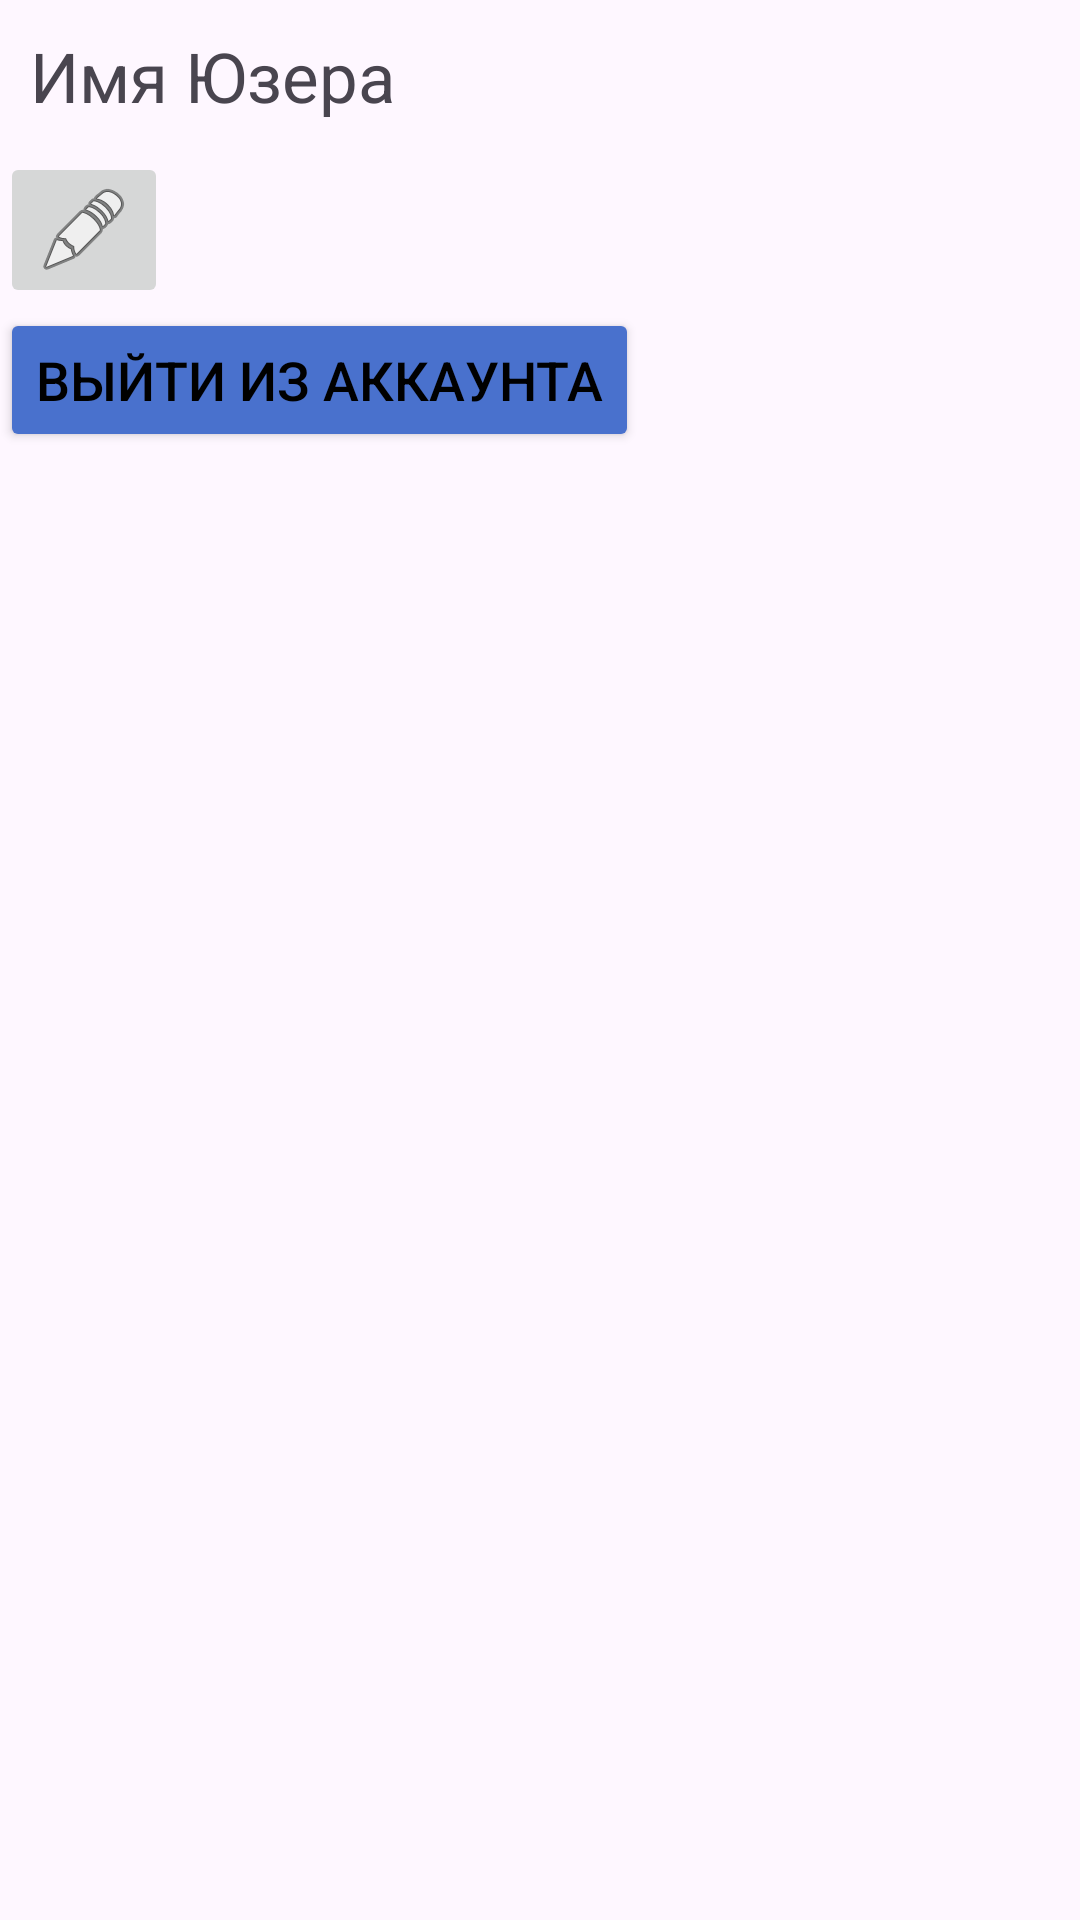

Icon click points for this 1080px x 1920px phone screenshot, format point (x, y):
edit: point (84, 230)
